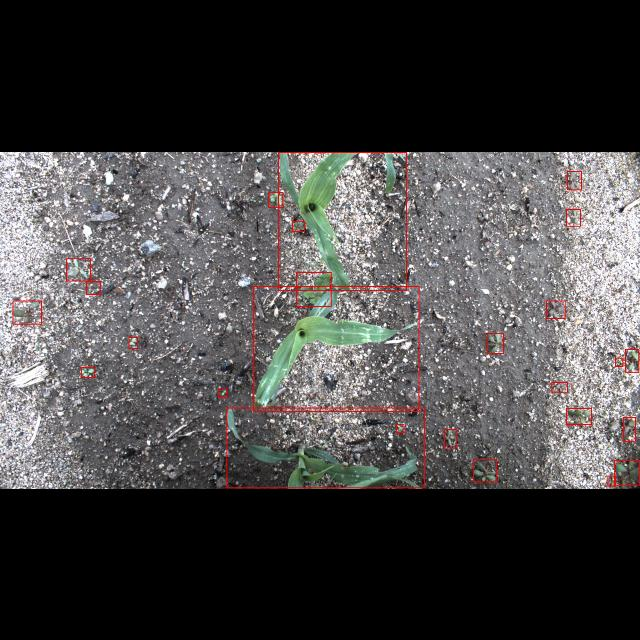crop: (254, 286, 418, 412), (279, 151, 407, 289), (226, 408, 424, 488)
weed: (296, 272, 332, 306), (13, 300, 42, 324), (614, 460, 640, 484), (67, 258, 91, 280), (474, 460, 496, 482), (566, 408, 592, 424), (546, 300, 566, 318), (487, 333, 503, 353), (626, 348, 638, 372), (623, 417, 635, 441), (567, 208, 581, 226), (567, 170, 581, 188), (444, 428, 456, 448), (86, 280, 100, 294), (269, 192, 283, 206), (81, 367, 95, 377), (552, 382, 566, 392), (292, 220, 304, 230), (128, 336, 138, 348), (218, 388, 228, 398), (608, 476, 616, 486), (615, 358, 623, 367), (396, 424, 404, 432)
